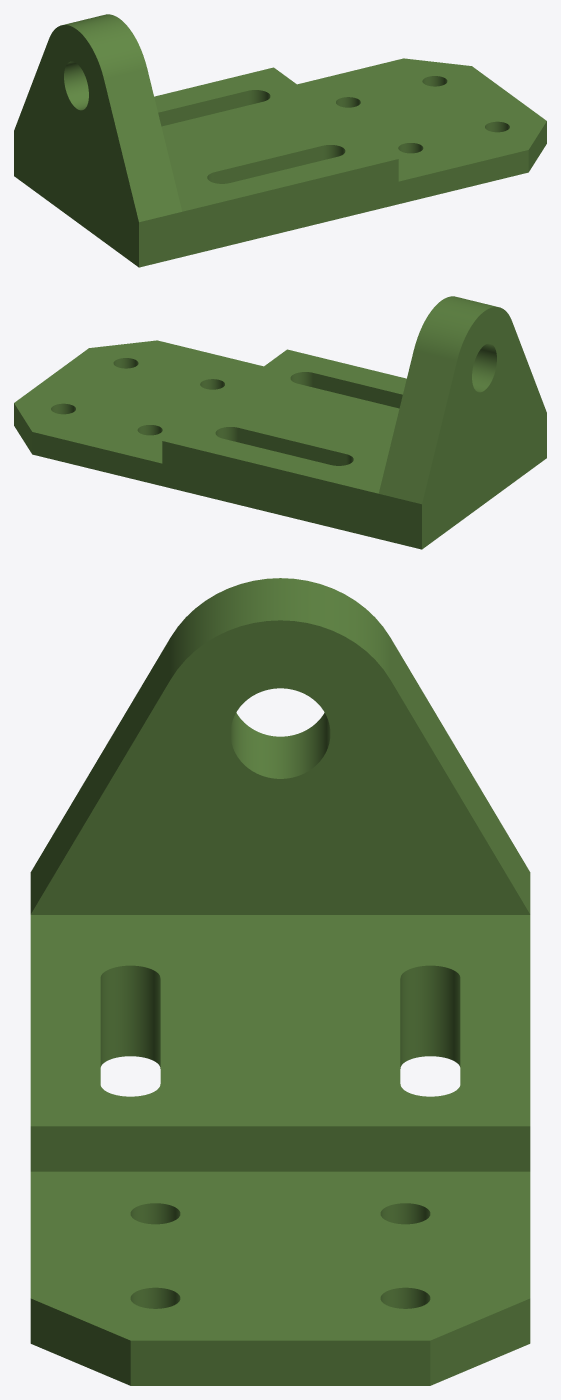
The model's file is Equerre.gltf.
The picture shows the model from 3 angles, top to bottom: view 1: azimuth 30°, elevation 25°; view 2: azimuth 150°, elevation 25°; view 3: azimuth 270°, elevation 25°; orthographic projection. The views are drawn at different scales.
Visible parts, largest first — view 1: mesh0_mesh_23, mesh0_mesh_2, mesh0_mesh_18, mesh0_mesh_14, mesh0_mesh_16, mesh0_mesh_17, mesh0_mesh_26, mesh0_mesh_28, mesh0_mesh_20, mesh0_mesh_4; view 2: mesh0_mesh_23, mesh0_mesh_2, mesh0_mesh_18, mesh0_mesh_13, mesh0_mesh_15, mesh0_mesh_17, mesh0_mesh_30, mesh0_mesh_24, mesh0_mesh_20, mesh0_mesh_5; view 3: mesh0_mesh_23, mesh0_mesh_19, mesh0_mesh_2, mesh0_mesh_12, mesh0_mesh_3, mesh0_mesh_17, mesh0_mesh_15, mesh0_mesh_16, mesh0_mesh_25, mesh0_mesh_27, mesh0_mesh_4, mesh0_mesh_5 (+1 smaller).
Part boxes in pixels (x1=…): mesh0_mesh_23: x1=154, y1=67, x2=398, y2=211; mesh0_mesh_2: x1=297, y1=58, x2=546, y2=181; mesh0_mesh_18: x1=14, y1=25, x2=138, y2=267; mesh0_mesh_14: x1=139, y1=150, x2=528, y2=267; mesh0_mesh_16: x1=104, y1=68, x2=181, y2=222; mesh0_mesh_17: x1=64, y1=14, x2=147, y2=78; mesh0_mesh_26: x1=214, y1=145, x2=322, y2=183; mesh0_mesh_28: x1=158, y1=91, x2=247, y2=126; mesh0_mesh_20: x1=64, y1=72, x2=88, y2=110; mesh0_mesh_4: x1=528, y1=121, x2=546, y2=171; mesh0_mesh_23: x1=162, y1=349, x2=406, y2=493; mesh0_mesh_2: x1=14, y1=340, x2=263, y2=463; mesh0_mesh_18: x1=422, y1=307, x2=546, y2=549; mesh0_mesh_13: x1=32, y1=432, x2=421, y2=549; mesh0_mesh_15: x1=379, y1=350, x2=456, y2=504; mesh0_mesh_17: x1=413, y1=296, x2=496, y2=360; mesh0_mesh_30: x1=238, y1=427, x2=346, y2=465; mesh0_mesh_24: x1=313, y1=373, x2=402, y2=408; mesh0_mesh_20: x1=472, y1=354, x2=496, y2=392; mesh0_mesh_5: x1=14, y1=403, x2=32, y2=453; mesh0_mesh_23: x1=30, y1=915, x2=530, y2=1126; mesh0_mesh_19: x1=30, y1=620, x2=530, y2=914; mesh0_mesh_2: x1=30, y1=1171, x2=530, y2=1340; mesh0_mesh_12: x1=30, y1=1126, x2=530, y2=1171; mesh0_mesh_3: x1=130, y1=1340, x2=430, y2=1385; mesh0_mesh_17: x1=170, y1=578, x2=390, y2=678; mesh0_mesh_15: x1=390, y1=638, x2=530, y2=913; mesh0_mesh_16: x1=30, y1=638, x2=170, y2=913; mesh0_mesh_25: x1=100, y1=965, x2=160, y2=1068; mesh0_mesh_27: x1=400, y1=965, x2=460, y2=1068; mesh0_mesh_4: x1=30, y1=1298, x2=130, y2=1385; mesh0_mesh_5: x1=430, y1=1298, x2=530, y2=1385.
Size of the model in its own units: 0.2 by 0.085 by 0.1.
